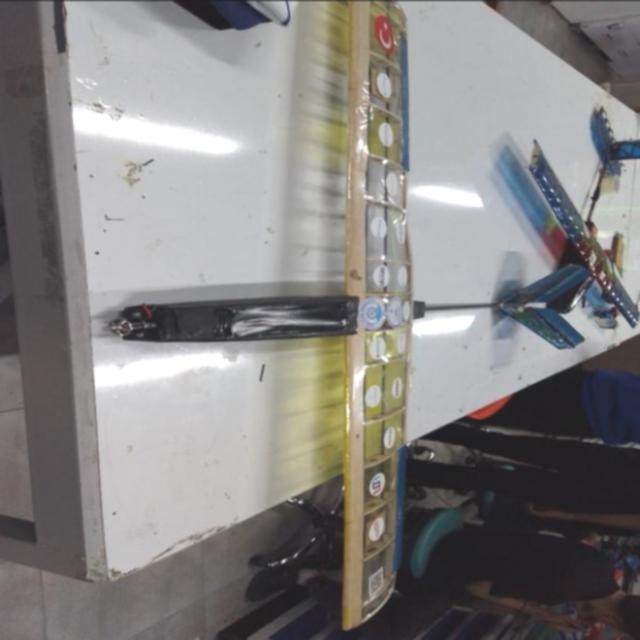plane: (104, 1, 590, 630), (511, 103, 640, 328)
